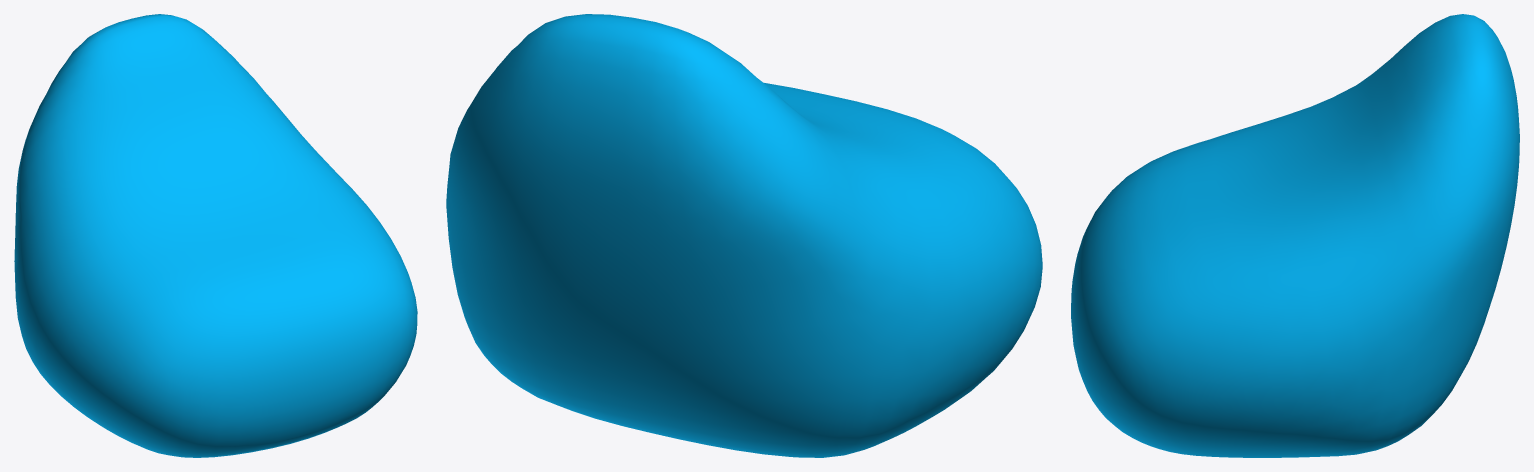
The model's file is Store_13_Pouf_3.glb.
3 renders of one model, left to right at view 1: azimuth 30°, elevation 25°; view 2: azimuth 150°, elevation 25°; view 3: azimuth 270°, elevation 25°, orthographic. The views are drawn at different scales.
Visible parts, largest first — view 1: Store_13_Pouf_3; view 2: Store_13_Pouf_3; view 3: Store_13_Pouf_3.
Part boxes in pixels (<box>): Store_13_Pouf_3: <box>14,14,417,457</box>; Store_13_Pouf_3: <box>446,14,1042,457</box>; Store_13_Pouf_3: <box>1071,14,1519,457</box>.
Bounding box in the file's own units: 1.21 × 1.07 × 1.17.
Materials: 1 (1 with a texture image).
